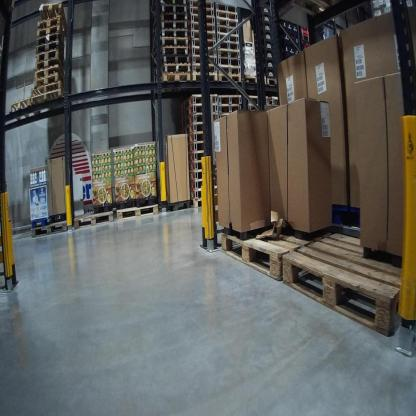pallet: (278, 223, 415, 344), (217, 202, 331, 277), (70, 206, 115, 233), (37, 2, 69, 31), (178, 91, 219, 113), (116, 200, 159, 220), (31, 217, 68, 239), (31, 89, 68, 110), (158, 71, 191, 94), (6, 97, 34, 124), (34, 20, 70, 41), (177, 113, 219, 128), (32, 82, 66, 100), (31, 65, 65, 82), (34, 33, 64, 52), (180, 102, 217, 117), (32, 73, 65, 89), (35, 50, 66, 65), (35, 42, 65, 57), (33, 59, 69, 71), (34, 17, 68, 29), (158, 62, 192, 74), (191, 71, 219, 84), (188, 197, 212, 212), (157, 6, 187, 18), (268, 93, 290, 109), (242, 95, 270, 107), (219, 70, 244, 83), (215, 46, 240, 59), (159, 31, 190, 41), (160, 55, 190, 65), (213, 94, 242, 104), (186, 189, 210, 201), (180, 121, 206, 132), (188, 151, 210, 164), (245, 74, 267, 87), (189, 22, 215, 33), (157, 12, 188, 21), (215, 16, 238, 28), (190, 38, 216, 48), (186, 130, 209, 141), (213, 105, 241, 114), (214, 39, 239, 49), (157, 46, 188, 54), (189, 31, 216, 40), (216, 1, 238, 12), (186, 141, 210, 151), (158, 21, 188, 29), (215, 32, 239, 42), (192, 64, 218, 73), (192, 56, 218, 65), (159, 38, 188, 46), (219, 54, 240, 65), (215, 10, 238, 20), (189, 7, 214, 16), (218, 65, 243, 74), (191, 47, 215, 56), (215, 26, 239, 35), (189, 171, 205, 182), (189, 16, 214, 22), (189, 182, 210, 189), (267, 77, 281, 87), (189, 2, 214, 7), (188, 162, 203, 170)
